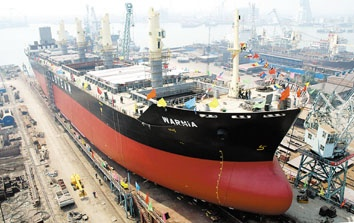Cargoship: (22, 1, 304, 215)
